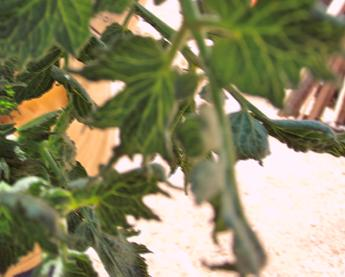Tomato leaf mosaic virus: (181, 0, 342, 101), (95, 37, 193, 150), (0, 0, 92, 68), (79, 169, 168, 233), (0, 46, 68, 116), (259, 114, 345, 167), (0, 192, 38, 270)
